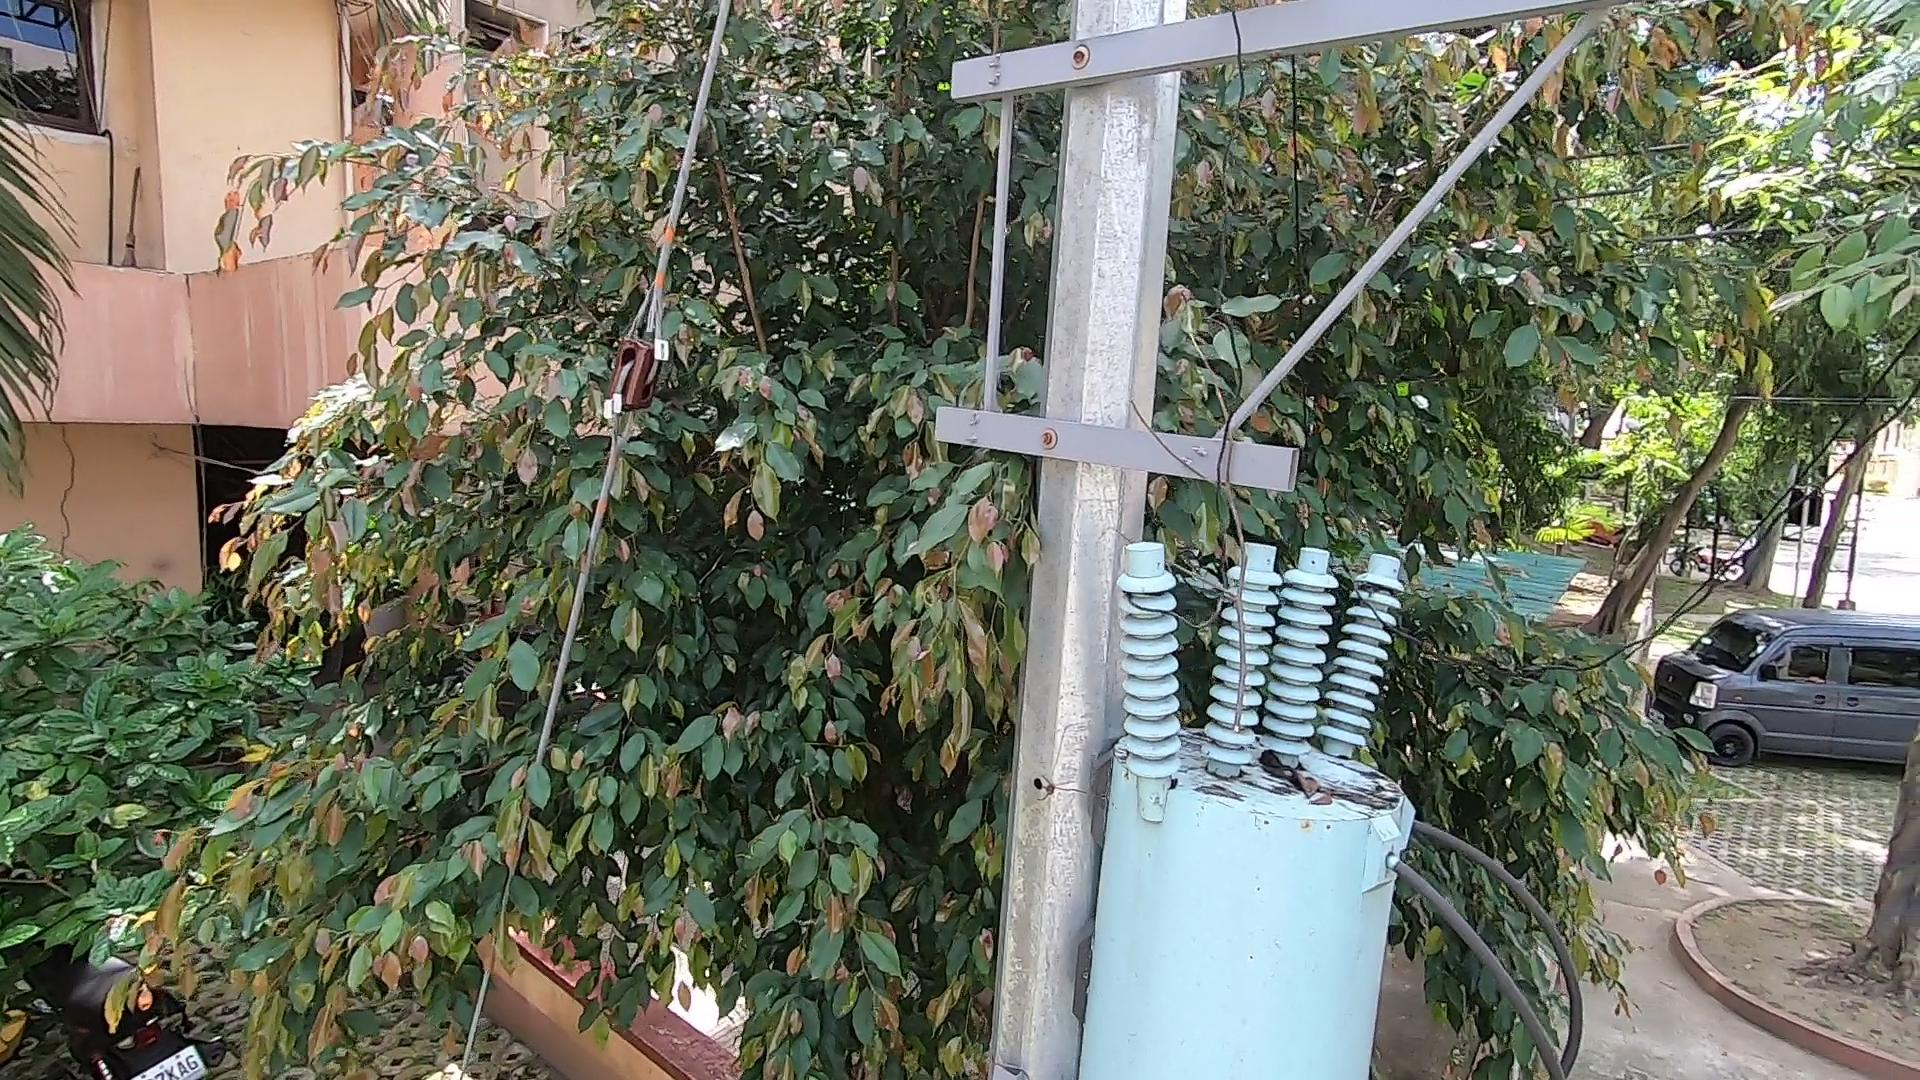leaf: (1261, 737, 1338, 810)
tree branch: (1127, 327, 1290, 735)
